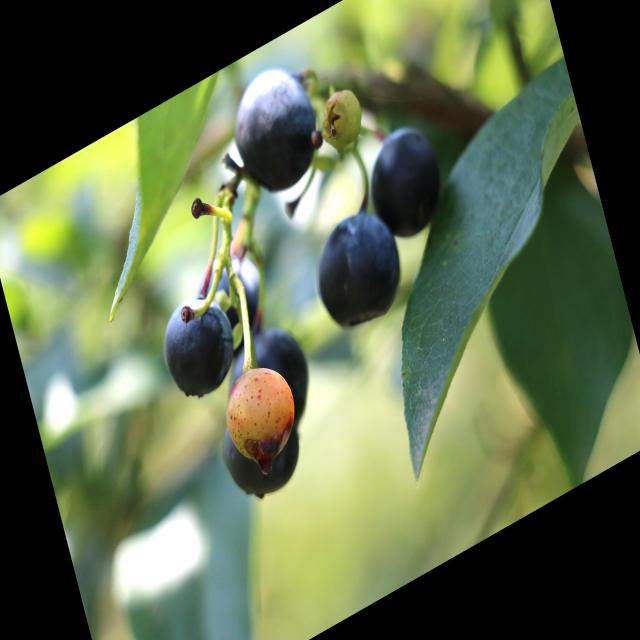blueberry: (302, 190, 413, 352), (222, 49, 328, 216), (226, 303, 326, 448), (358, 114, 448, 260), (148, 280, 241, 420), (214, 392, 306, 516), (193, 224, 279, 354)
blueberry-unripe: (216, 350, 302, 471), (316, 80, 367, 152)
